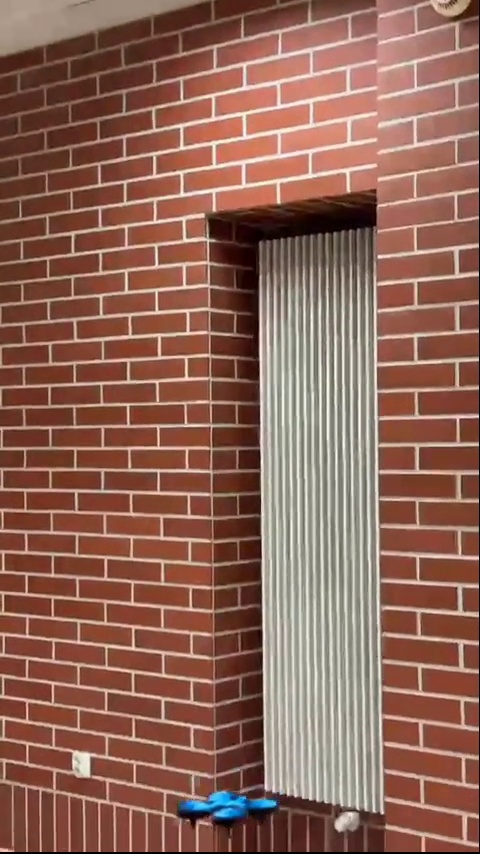drone: (173, 785, 282, 827)
